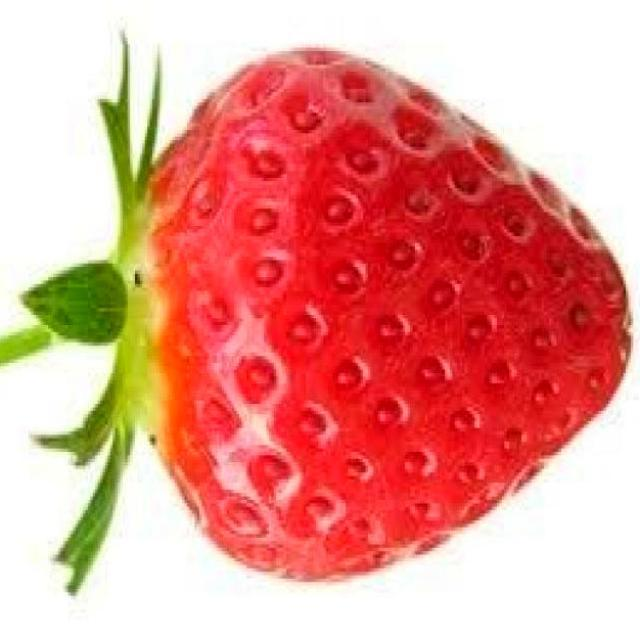Healthy Fruit: (71, 46, 640, 596)
